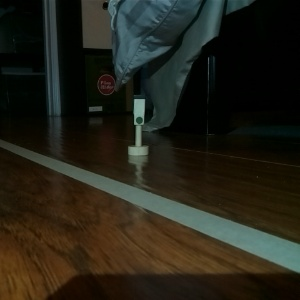traffic light green: (125, 92, 151, 158)
